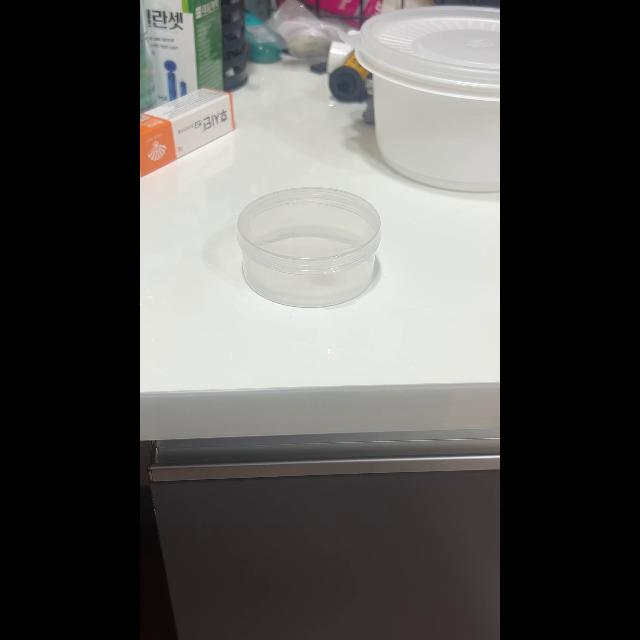clean: (239, 185, 387, 308)
